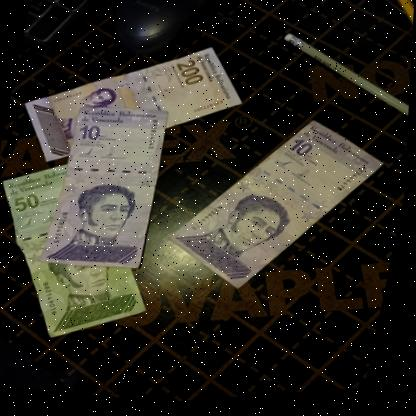fifty-front-vef: (0, 148, 178, 357)
ten-front-vef: (160, 100, 394, 316), (40, 98, 174, 279)
two_hundred-front-vef: (13, 19, 255, 194)
